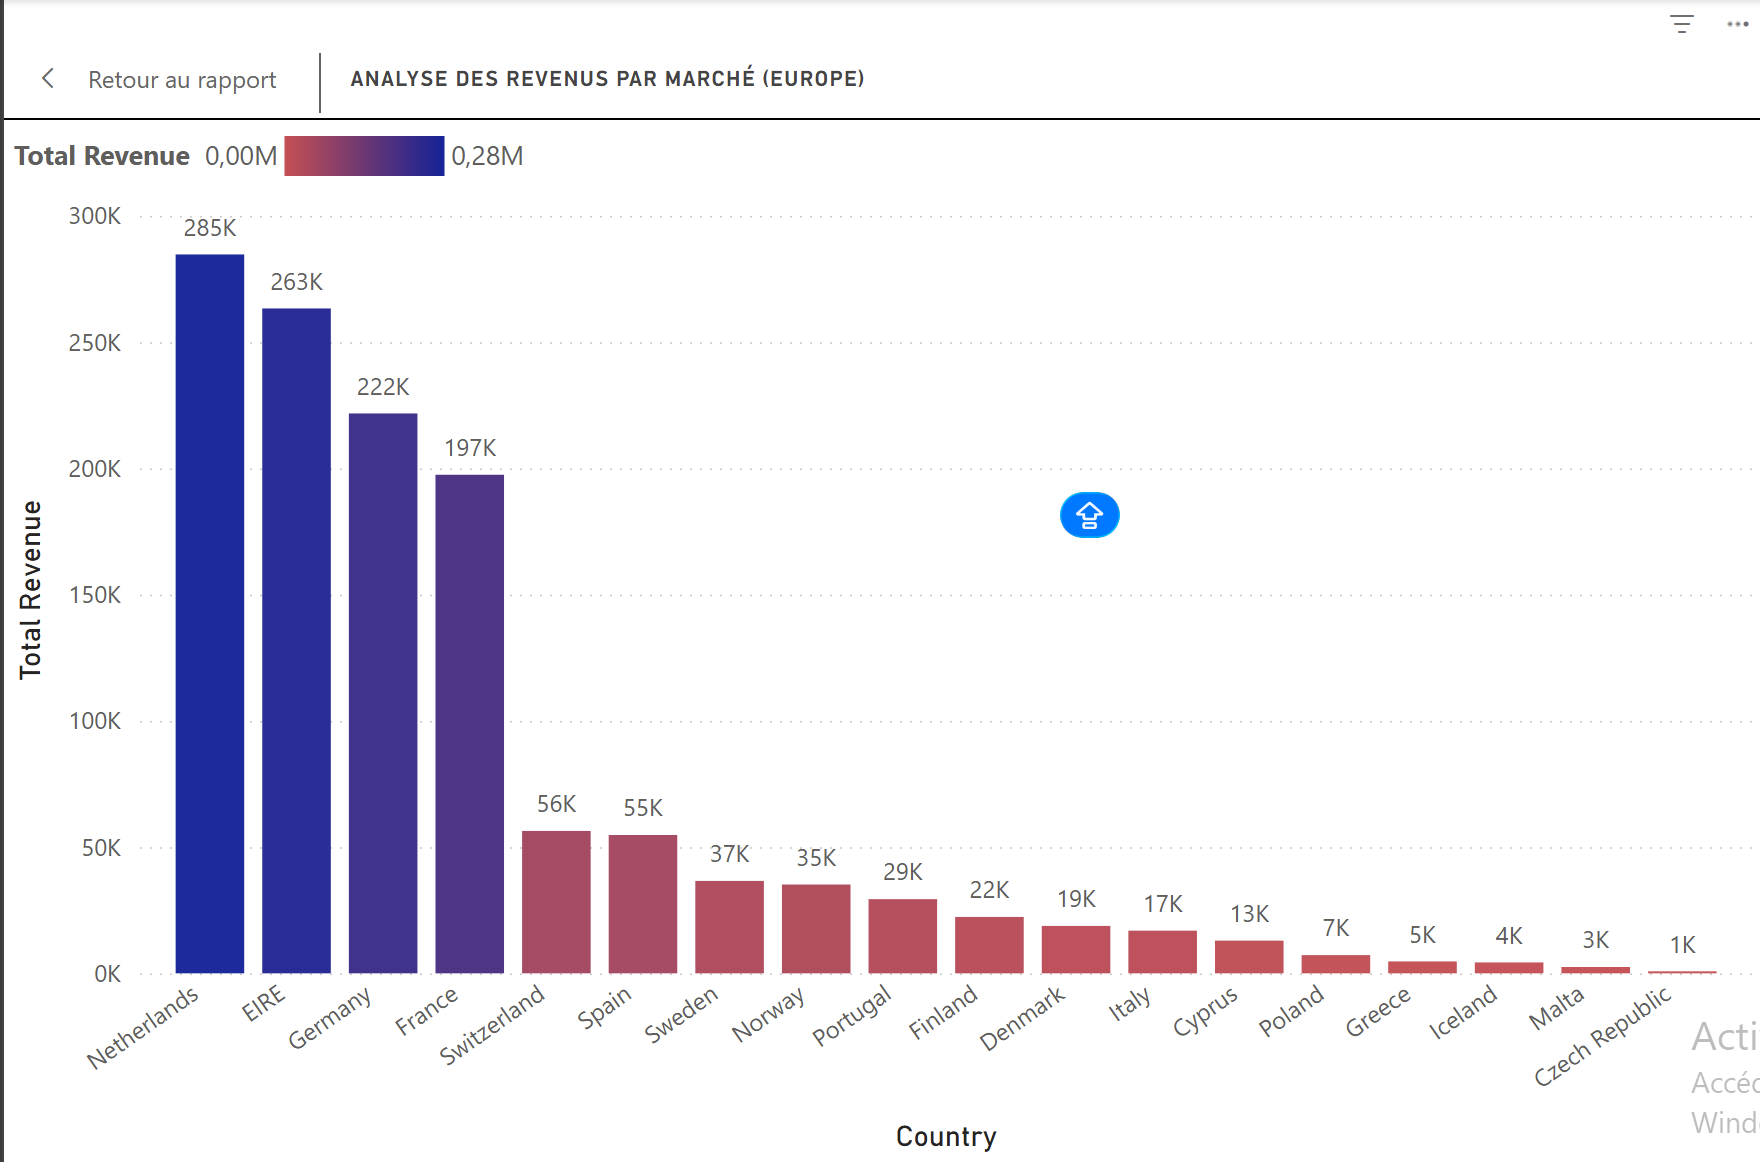

This screenshot's page, from the dashboard's own definition file:
{"tool":"powerbi","page":{"name":"Page 1","canvas":[1280,720],"ordinal":0},"visuals":[{"type":"clusteredColumnChart","title":"Analyse des Revenus par Marché (Europe)","fields":{"Category":["Year 2010-2011.Country"],"Y":["Year 2010-2011.Total Revenue"]},"box":[10,0,280,280],"z":0}]}

Visuals, with their boxes on the page's 1280x720 design canvas (x1, y1, x2, y2). These are canvas units, not pixel positions in the 1760x1162 screenshot, which may show the page scaled, cropped or inside an application window:
"Analyse des Revenus par Marché (Europe)" clusteredColumnChart: bbox=(10, 0, 290, 280)
